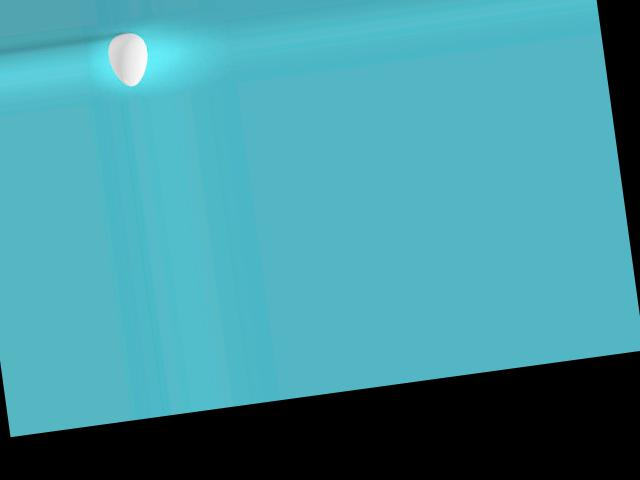egg: (104, 30, 151, 88)
